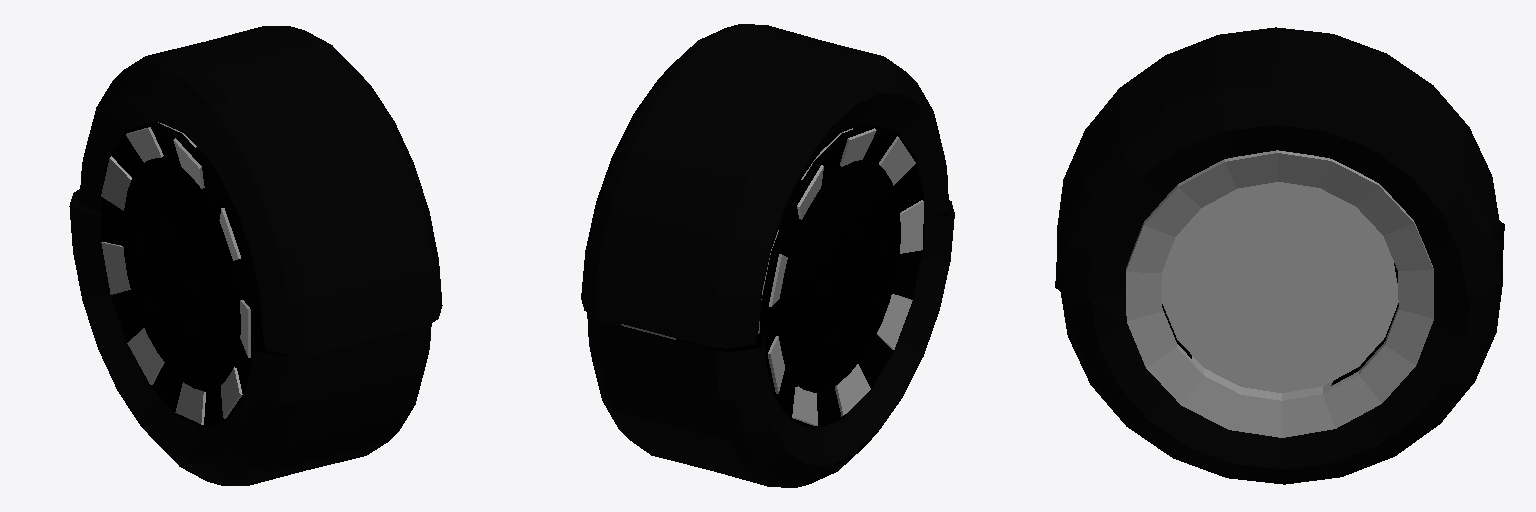
File: mi_rueda.obj
3 renders of one model, left to right at view 1: azimuth 30°, elevation 25°; view 2: azimuth 150°, elevation 25°; view 3: azimuth 270°, elevation 25°, orthographic.
Parts seen in each view (by area): view 1: Torus01, Sphere01, Tube01, Tube02; view 2: Torus01, Sphere01, Tube01, Tube02; view 3: Torus01, Cylinder01, Tube02.
Boxes of the visible parts, x1,y1,x2,y2 form: Torus01: [69, 26, 442, 485]; Sphere01: [123, 156, 242, 392]; Tube01: [101, 122, 290, 427]; Tube02: [101, 122, 250, 424]; Torus01: [581, 24, 954, 487]; Sphere01: [776, 157, 900, 392]; Tube01: [676, 123, 924, 429]; Tube02: [621, 128, 923, 425]; Torus01: [1055, 27, 1504, 484]; Cylinder01: [1162, 182, 1398, 392]; Tube02: [1126, 150, 1433, 437].
Size of the model in its own units: 0.5792 by 1.2 by 1.21.